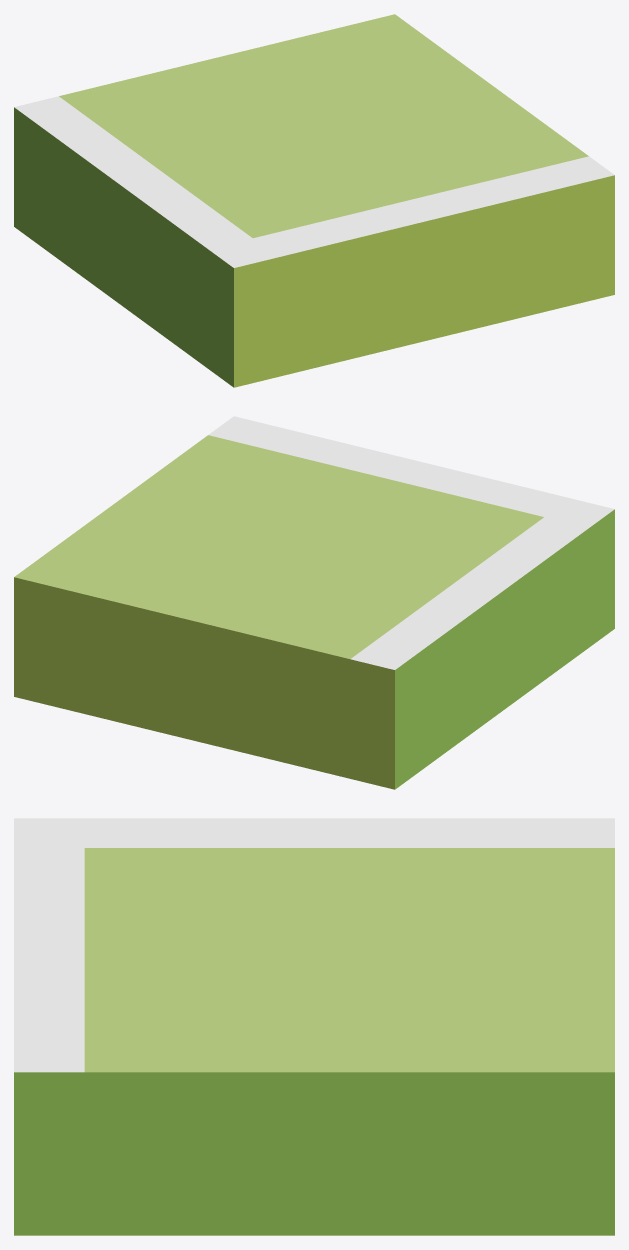
Rendered from floor_green4.fbx.
3 views of the same model, one above another, from view 1: azimuth 30°, elevation 25°; view 2: azimuth 150°, elevation 25°; view 3: azimuth 270°, elevation 25° (orthographic). The views are drawn at different scales.
Parts seen in each view (by area): view 1: floor_green4; view 2: floor_green4; view 3: floor_green4.
Part boxes in pixels (x1,y1,x2,y2): floor_green4: (14, 14, 614, 387); floor_green4: (14, 416, 614, 789); floor_green4: (14, 818, 614, 1235).
Size of the model in its own units: 100 by 30 by 100.
